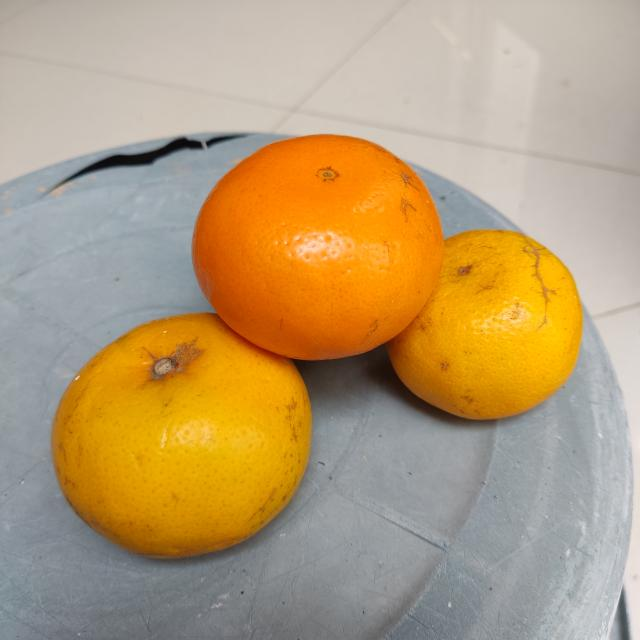orange: (51, 314, 316, 564), (382, 227, 587, 420)
